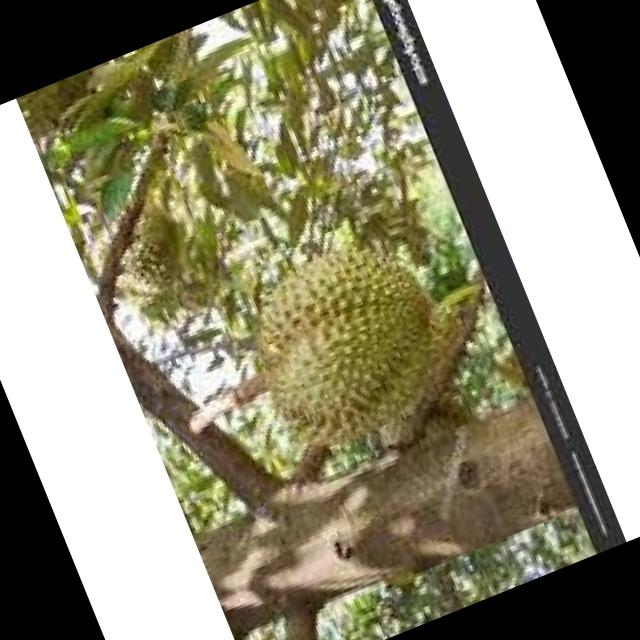fruit: (191, 188, 508, 505)
